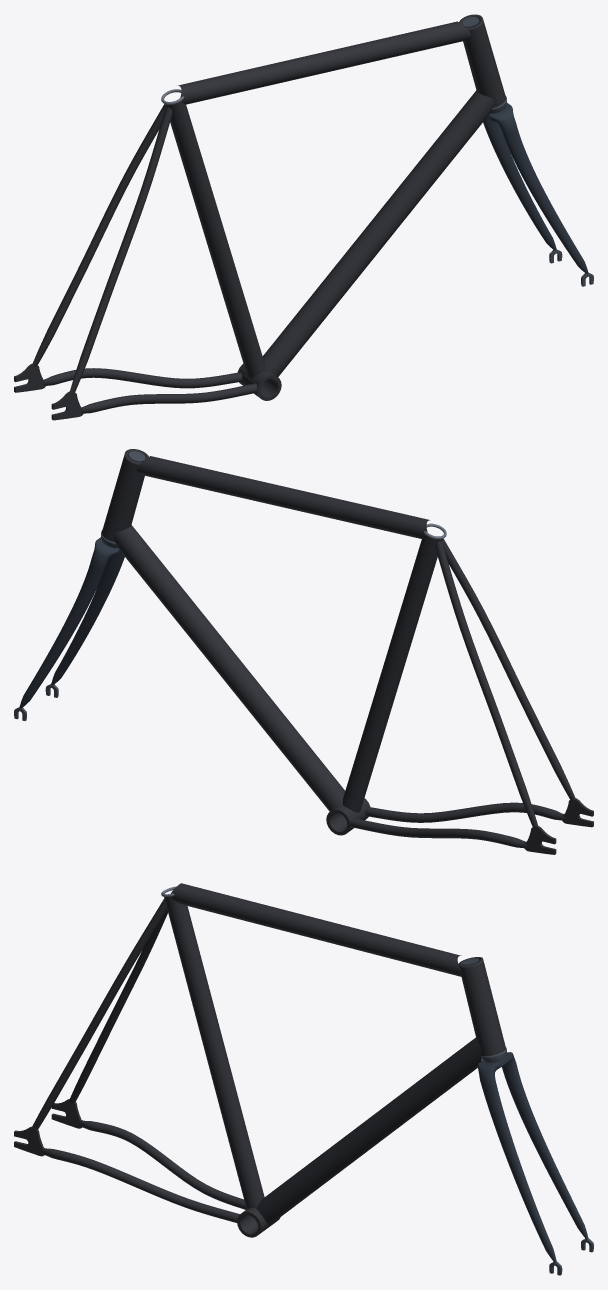
The model's file is state-black-label-v3-58.glb.
3 views of the same model, one above another, from view 1: azimuth 30°, elevation 25°; view 2: azimuth 150°, elevation 25°; view 3: azimuth 330°, elevation 25° (orthographic).
Parts seen in each view (by area): view 1: paint_down, paint_top, paint_seat, paint_seatstay_1, paint_seatstay_-1, paint_head, fork_blade_1, paint_chainstay_-1, paint_chainstay_1, fork_blade_-1, paint_bottom_bracket, rear_dropout_1 (+1 smaller); view 2: paint_down, paint_top, paint_seat, paint_seatstay_-1, paint_seatstay_1, paint_head, fork_blade_-1, paint_chainstay_1, paint_chainstay_-1, fork_blade_1, paint_bottom_bracket, rear_dropout_-1 (+1 smaller); view 3: paint_down, paint_seat, paint_top, paint_head, paint_seatstay_1, fork_blade_1, fork_blade_-1, paint_chainstay_1, paint_chainstay_-1, paint_seatstay_-1, paint_bottom_bracket, rear_dropout_1 (+2 smaller).
Part boxes in pixels (box(x1,y1,x2,y2)): paint_down: box(262, 90, 494, 376); paint_top: box(178, 21, 470, 104); paint_seat: box(164, 101, 265, 378); paint_seatstay_1: box(69, 106, 172, 392); paint_seatstay_-1: box(32, 104, 165, 367); paint_head: box(459, 14, 505, 107); fork_blade_1: box(501, 124, 588, 273); paint_chainstay_-1: box(43, 368, 242, 388); paint_chainstay_1: box(80, 383, 257, 413); fork_blade_-1: box(483, 118, 556, 250); paint_bottom_bracket: box(237, 363, 281, 400); rear_dropout_1: box(51, 391, 83, 420); paint_down: box(113, 525, 344, 811); paint_top: box(137, 456, 430, 538); paint_seat: box(342, 536, 442, 812); paint_seatstay_-1: box(435, 541, 538, 826); paint_seatstay_1: box(442, 538, 575, 801); paint_head: box(102, 449, 148, 542); fork_blade_-1: box(19, 558, 106, 708); paint_chainstay_1: box(365, 802, 565, 822); paint_chainstay_-1: box(350, 818, 527, 847); fork_blade_1: box(51, 552, 124, 684); paint_bottom_bracket: box(326, 798, 370, 835); rear_dropout_-1: box(524, 826, 556, 854); paint_down: box(256, 1037, 481, 1224); paint_seat: box(164, 896, 264, 1208); paint_top: box(171, 883, 461, 976); paint_head: box(458, 957, 505, 1056); paint_seatstay_1: box(32, 899, 166, 1129); fork_blade_1: box(480, 1078, 556, 1262); fork_blade_-1: box(502, 1063, 588, 1239); paint_chainstay_1: box(41, 1148, 239, 1222); paint_chainstay_-1: box(79, 1120, 246, 1209); paint_seatstay_-1: box(69, 909, 167, 1103); paint_bottom_bracket: box(237, 1208, 280, 1237); rear_dropout_1: box(14, 1126, 44, 1156).
Size of the model in its own units: 1.04 by 0.5959 by 0.1438.
